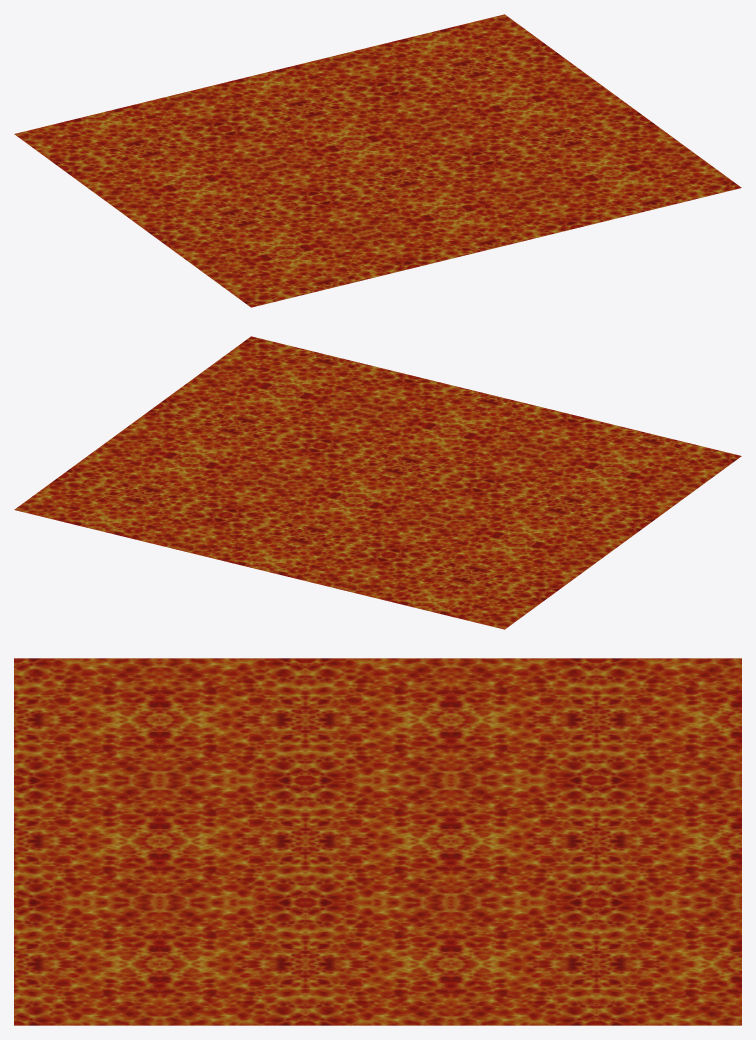
The model's file is Dxlm_rongyan.FBX.
3 views of the same model, one above another, from view 1: azimuth 30°, elevation 25°; view 2: azimuth 150°, elevation 25°; view 3: azimuth 270°, elevation 25° (orthographic). The views are drawn at different scales.
Visible parts, largest first — view 1: Dxlm_rongyan; view 2: Dxlm_rongyan; view 3: Dxlm_rongyan.
Boxes of the visible parts, <box> form: Dxlm_rongyan: <box>14,14,741,307</box>; Dxlm_rongyan: <box>14,336,741,629</box>; Dxlm_rongyan: <box>14,658,741,1025</box>.
Bounding box in the file's own units: 6213 × 5201 × 0.
